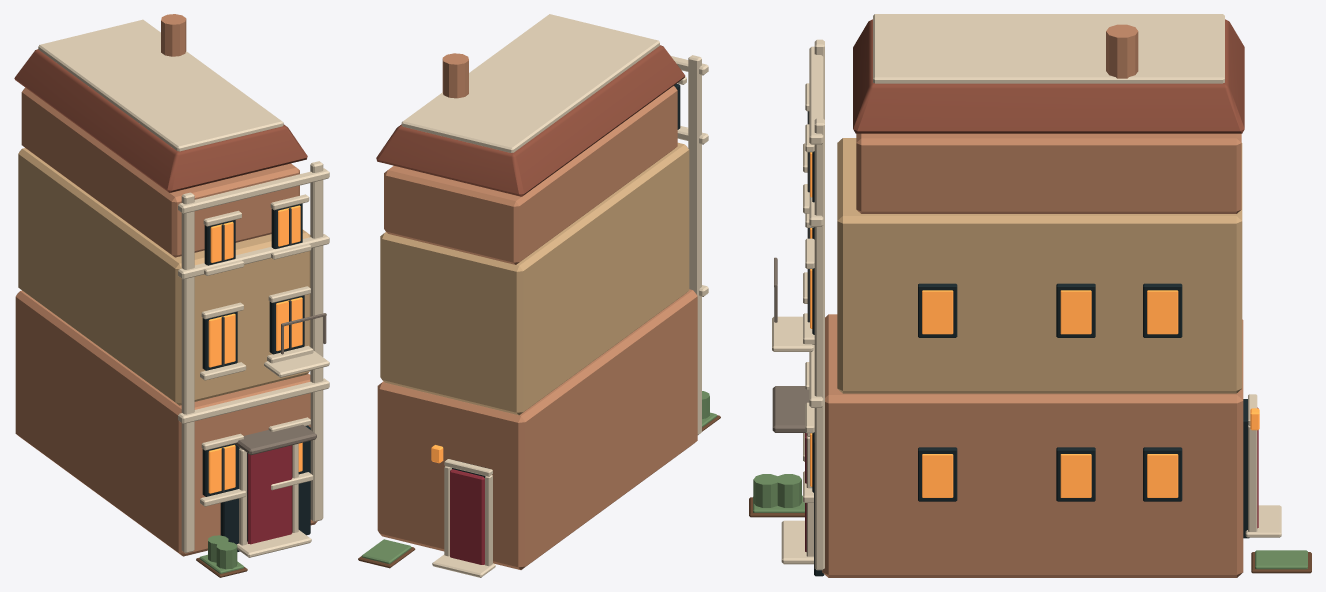
File: old_town_narrow_townhouse_v1.glb
The picture shows the model from 3 angles, left to right: view 1: azimuth 30°, elevation 25°; view 2: azimuth 150°, elevation 25°; view 3: azimuth 270°, elevation 25°; orthographic projection. The views are drawn at different scales.
Visible parts, largest first — view 1: old_town_narrow_townhouse_v1Shell, DoorLeaf, DoorFrame; view 2: old_town_narrow_townhouse_v1Shell, ServiceDoorLeaf, ServiceDoorFrame; view 3: old_town_narrow_townhouse_v1Shell, ServiceDoorFrame.
Part boxes in pixels (left/top/right/bottom): old_town_narrow_townhouse_v1Shell: left=14, top=14, right=329, bottom=577; DoorLeaf: left=247, top=445, right=292, bottom=544; DoorFrame: left=239, top=443, right=298, bottom=545; old_town_narrow_townhouse_v1Shell: left=358, top=14, right=720, bottom=577; ServiceDoorLeaf: left=450, top=469, right=484, bottom=564; ServiceDoorFrame: left=444, top=459, right=492, bottom=566; old_town_narrow_townhouse_v1Shell: left=749, top=14, right=1311, bottom=577; ServiceDoorFrame: left=1248, top=394, right=1257, bottom=531.
Size of the model in its own units: 3.74 by 10.26 by 9.75.
